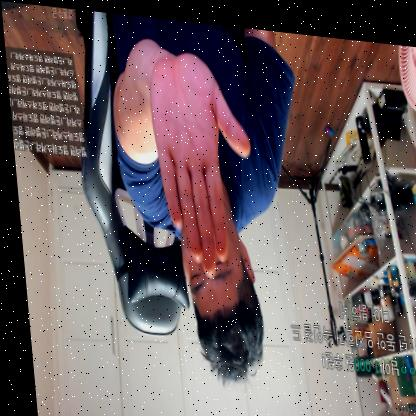donation: (282, 288, 416, 373)
streamer: (102, 9, 315, 388)
